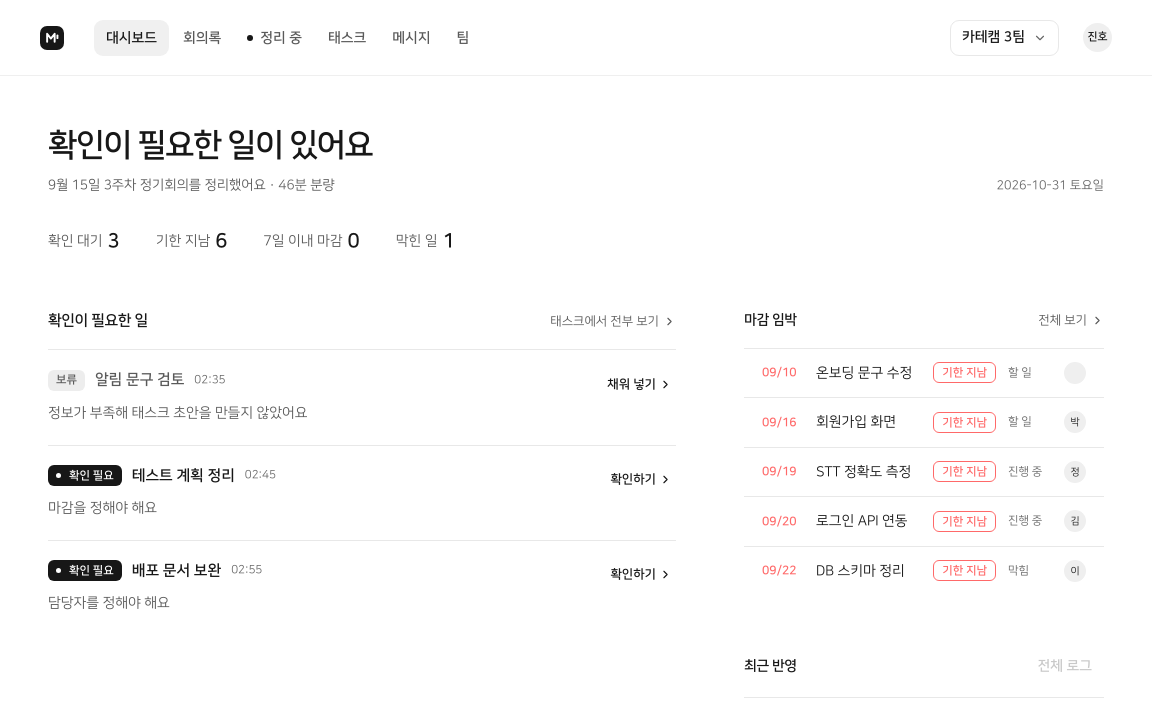
Test case: 대시보드 (U4-4 → M7) › 대시보드 조회만 있고, 메뉴를 열어도 새 업무 요청이 없다
Click the button with aria-label "워크스페이스 바꾸기" at (1004, 38), box [950,20,1059,56]
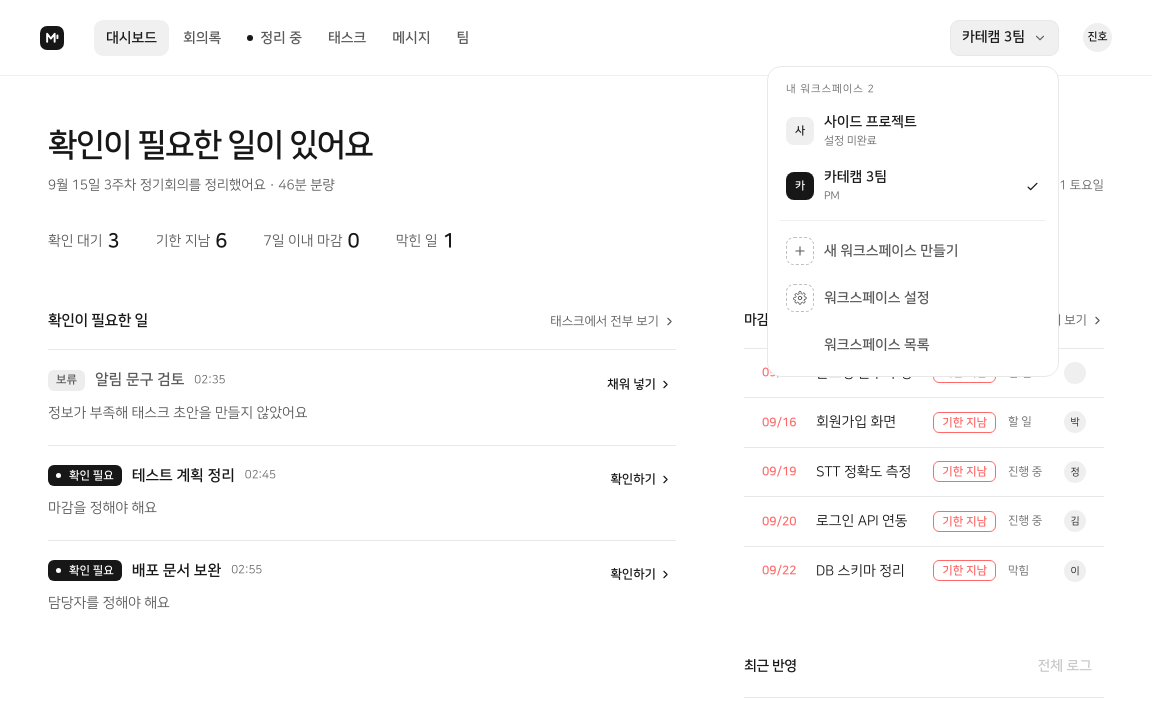
Press Escape
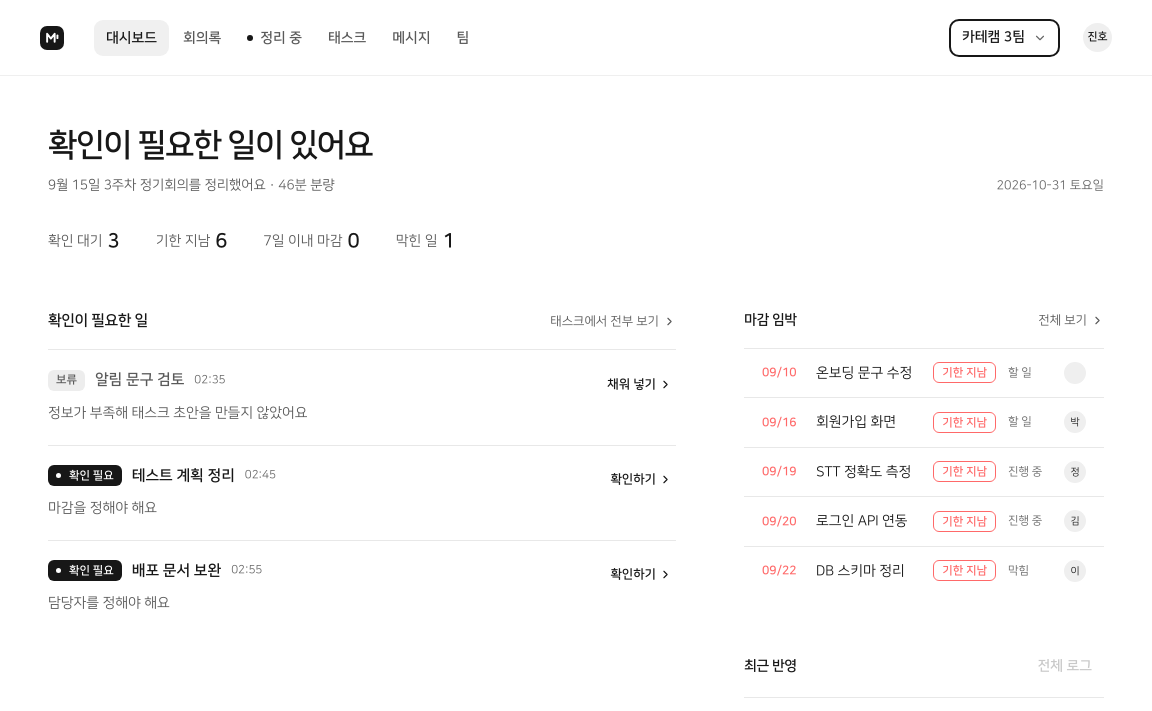
Click the button with aria-label "내 계정: 최진호" at (1098, 38), box [1083,23,1112,52]
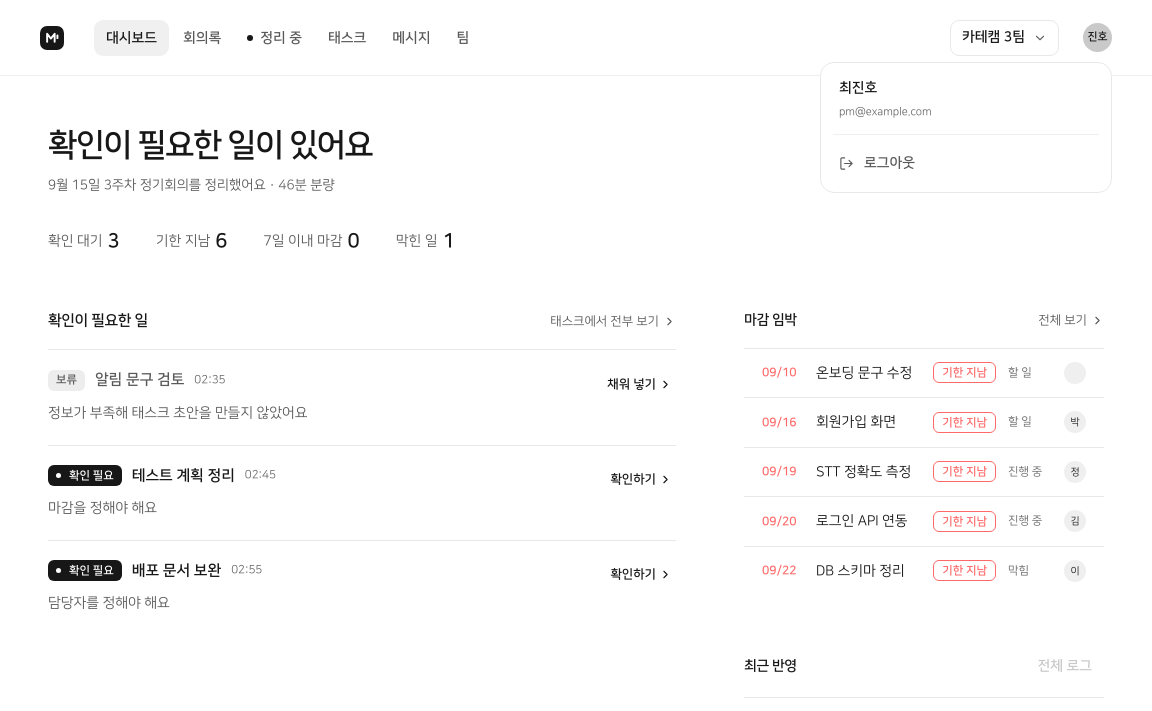
expect the menu named "내 계정" is shown: met, box [820,62,1112,193]
